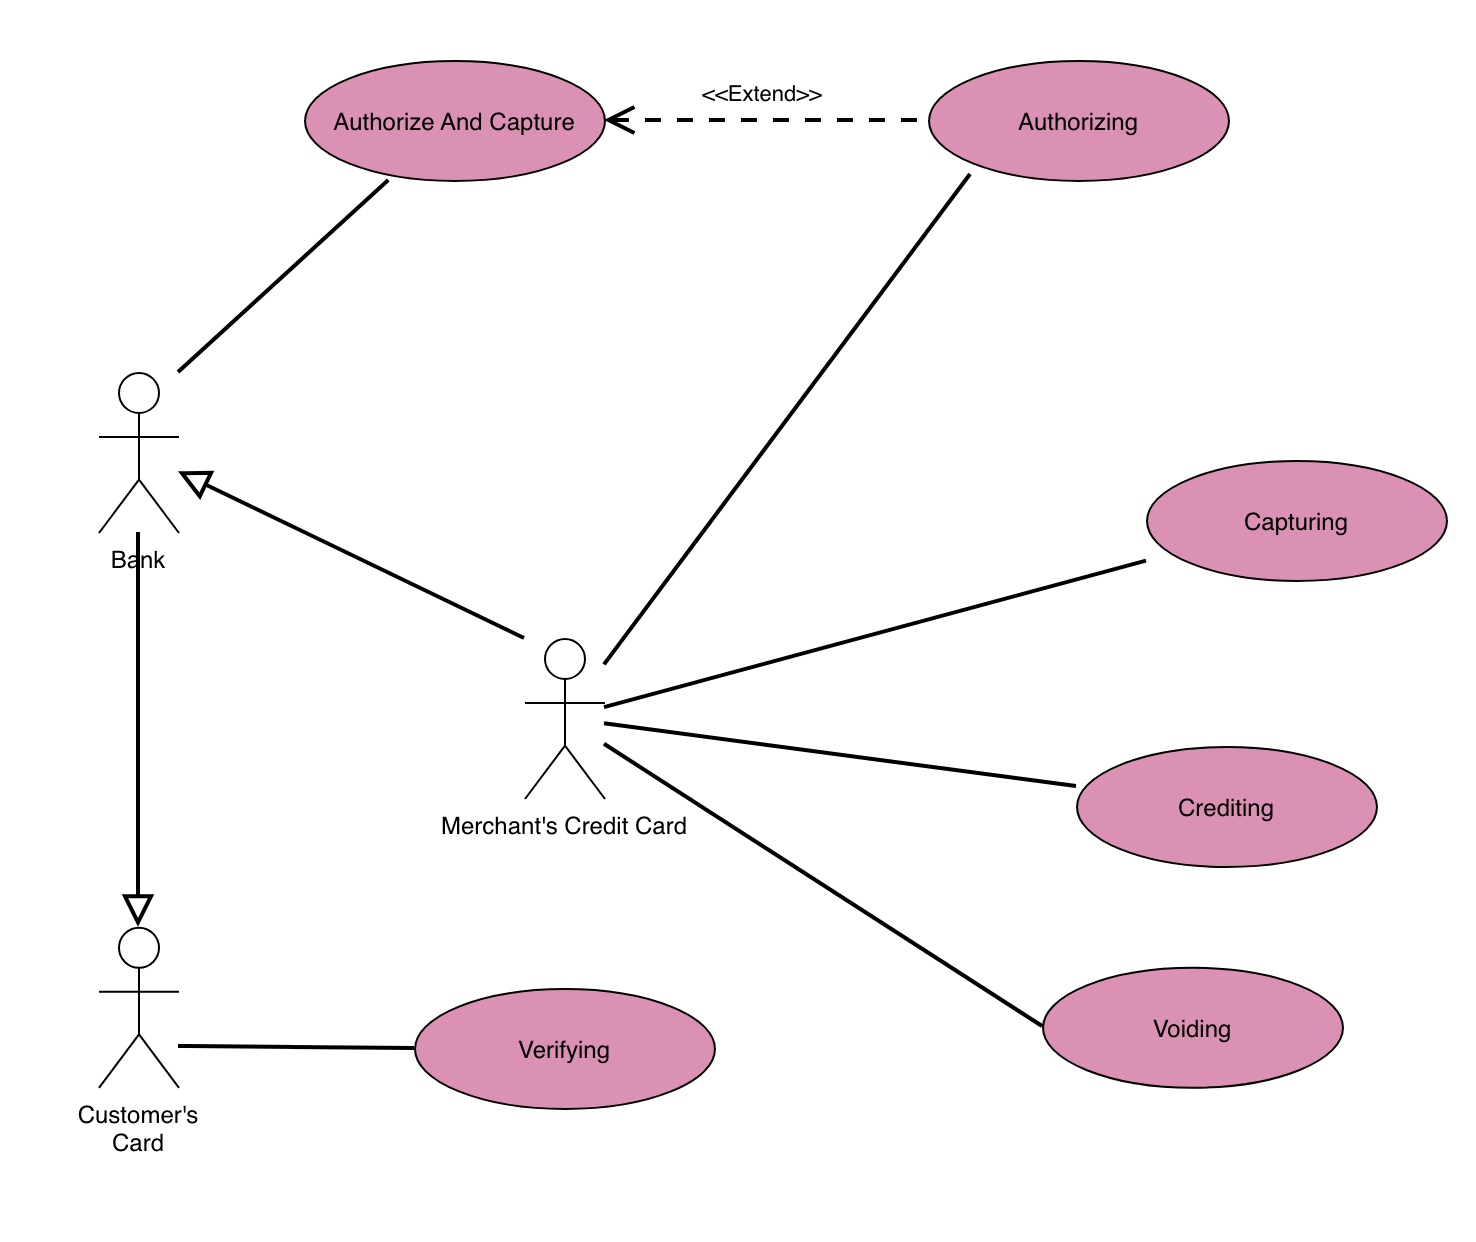actor: (90, 366, 195, 535), (89, 925, 181, 1092), (522, 639, 611, 801)
association: (604, 169, 976, 668), (601, 738, 1044, 1028), (607, 553, 1151, 711), (179, 177, 387, 375), (601, 720, 1076, 791), (602, 102, 925, 142), (177, 1021, 413, 1071)
generalization: (175, 465, 529, 644), (120, 534, 159, 925)
text: (51, 1099, 217, 1159), (326, 102, 588, 140), (437, 810, 697, 844), (1238, 499, 1361, 543), (1148, 1012, 1252, 1056), (513, 1030, 627, 1069), (1170, 793, 1287, 828), (1010, 107, 1152, 136), (701, 76, 832, 106), (102, 545, 186, 573)
use_case: (927, 57, 1232, 185), (413, 984, 720, 1111), (1146, 458, 1448, 586), (1044, 964, 1345, 1090), (301, 58, 605, 182), (1079, 743, 1379, 867)
